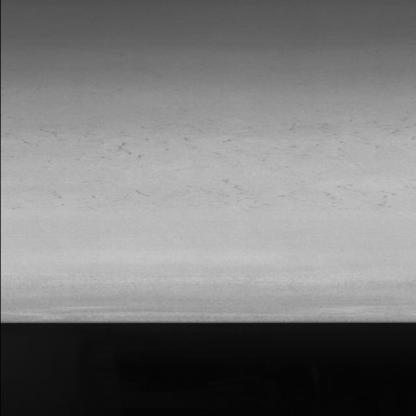silk_spot: (61, 111, 396, 212)
